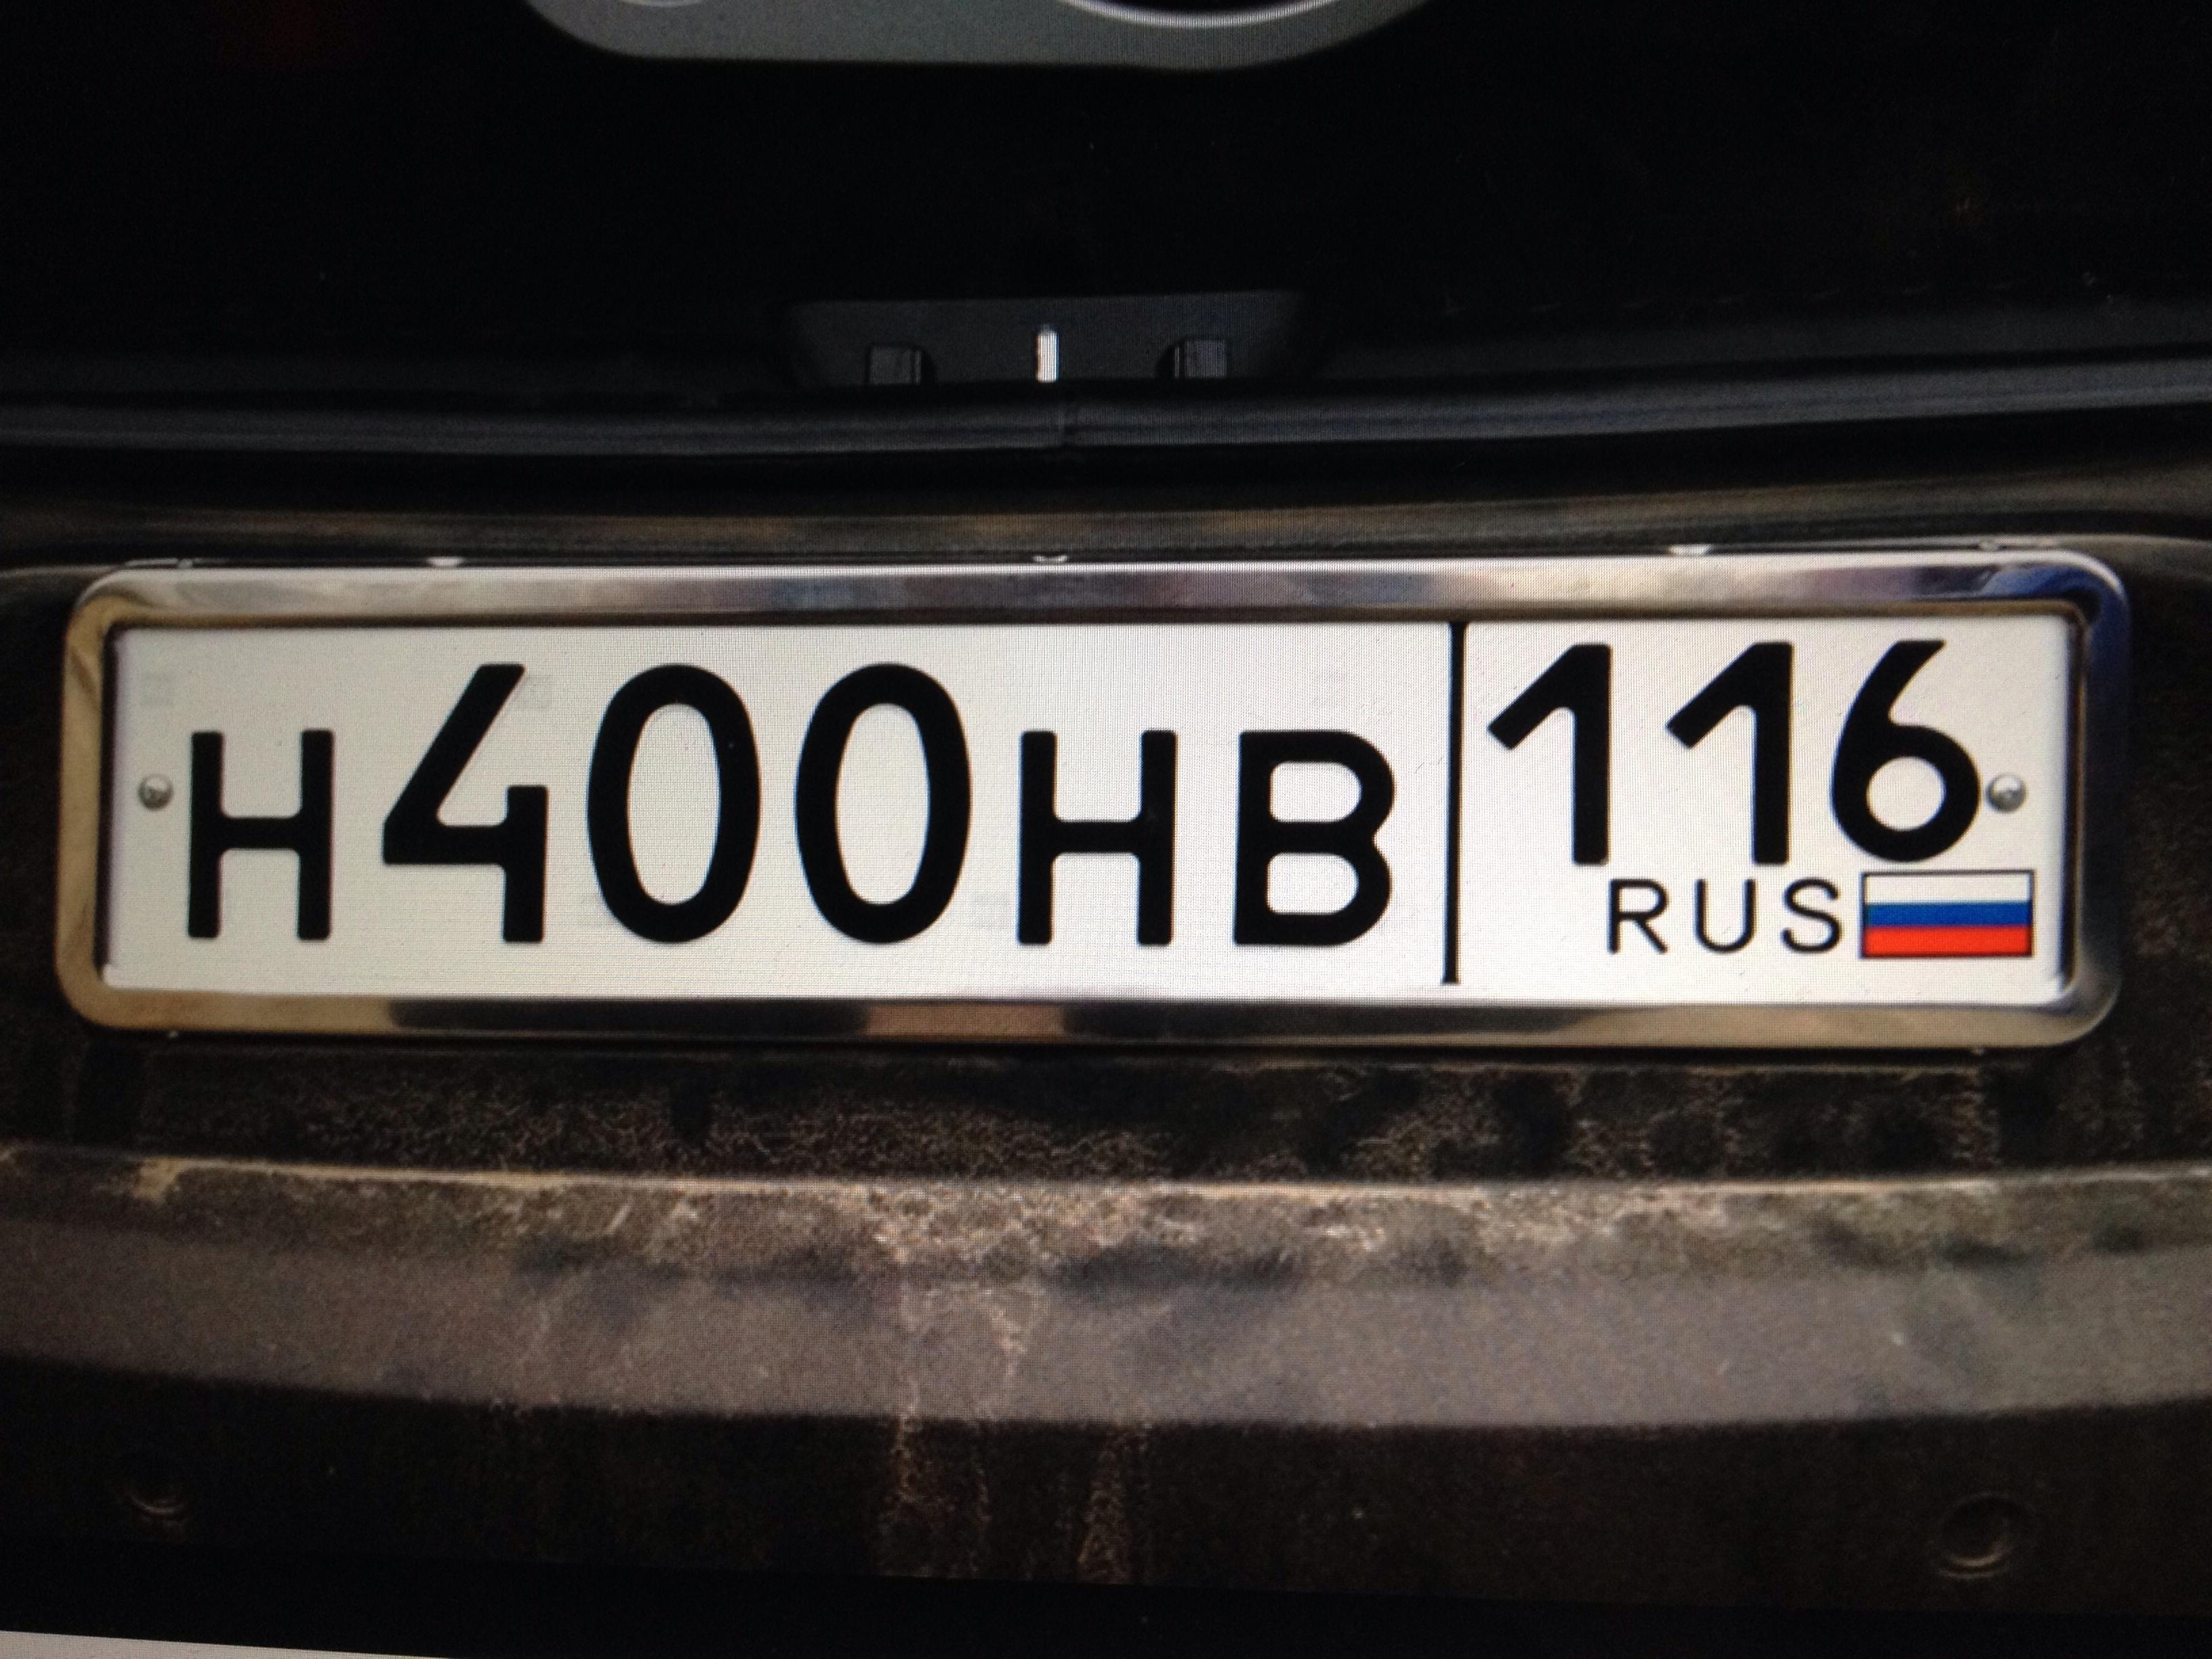license-plateSW: (80, 608, 2094, 1011)
